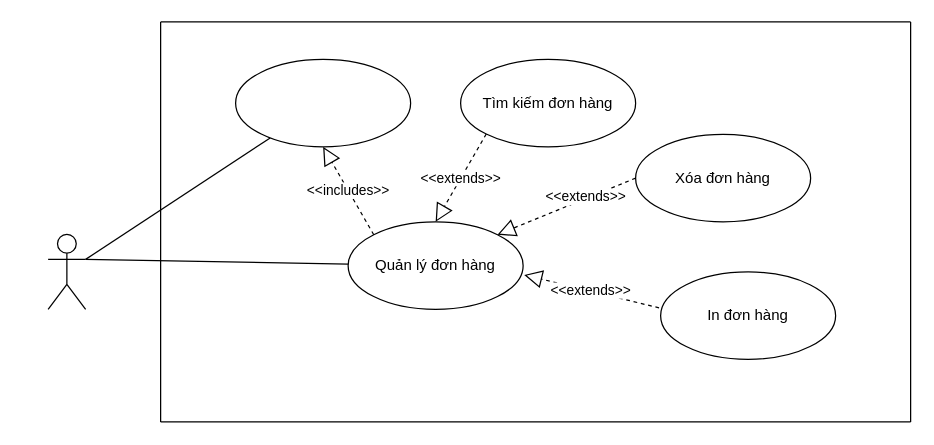
This 934x445 diagram has some shape labels left out. Here are the shapes that lost their labels. From the top down, the centre of each, then its label:
At [322,102]: "Đăng nhập".
At [66,271]: "Nhân viên QL".
